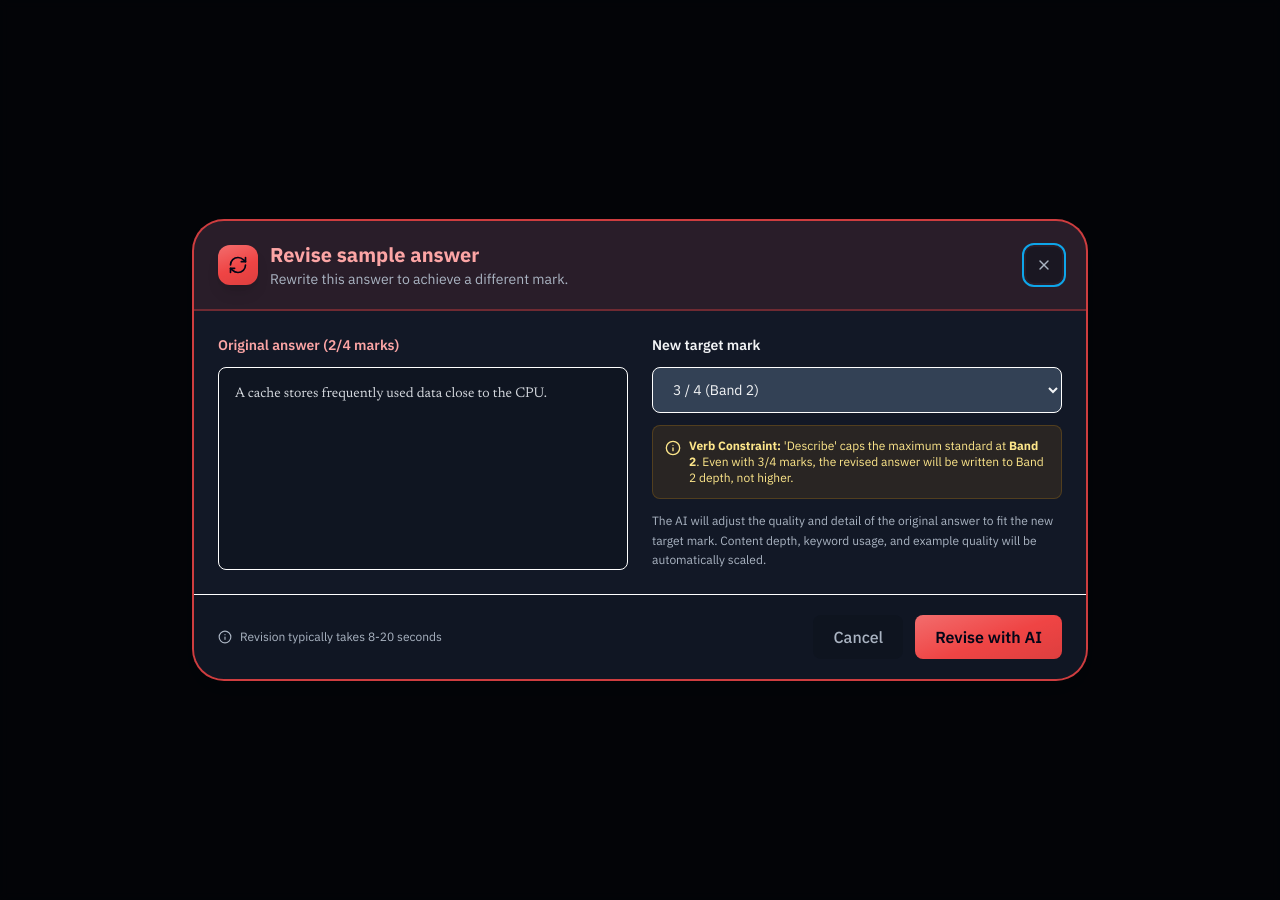
Scenario: SampleAnswerRevisionModal error affordance › offers only a Dismiss affordance, not a retry, matching the original design
Click the button "Revise with AI": (989, 637) [915,615,1062,659]
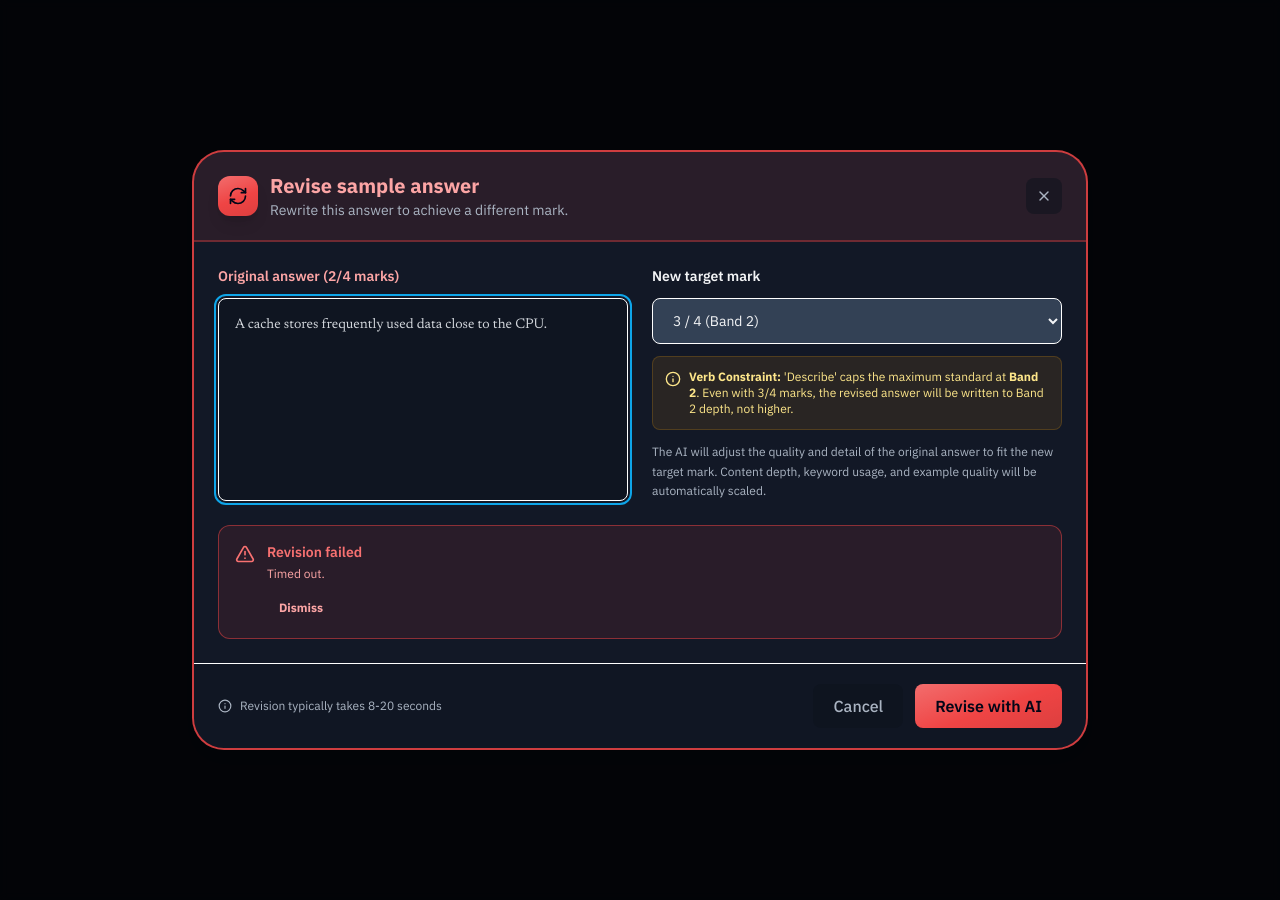
expect the message shows "Revision failed": met, box [267,543,362,561]
expect the message shows "Timed out.": met, box [267,566,325,581]
expect the button "Dismiss" is shown: met, box [267,594,335,622]
